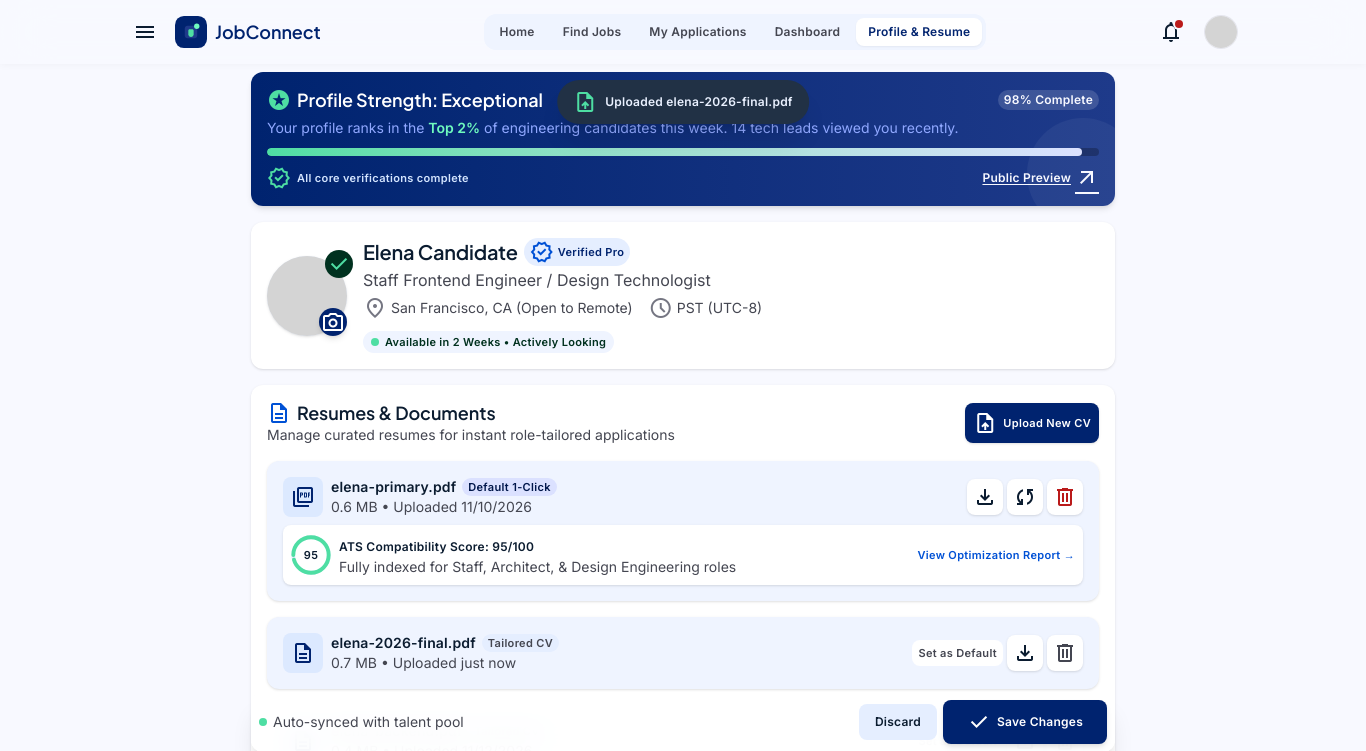
Test: Resume management, Application withdrawal & Offer acceptance UI › uploads, sets default, downloads, and deletes resumes with last-resume guard on ProfileResumePage
Earlier steps of the test are not shown.
expect the text "elena-primary.pdf" is shown: met, box [331, 477, 456, 497]
expect the text "elena-backend.pdf" is shown: met, box [331, 721, 462, 741]
Click the button titled "Download Resume". click: (985, 497)
box: [967, 479, 1003, 515]
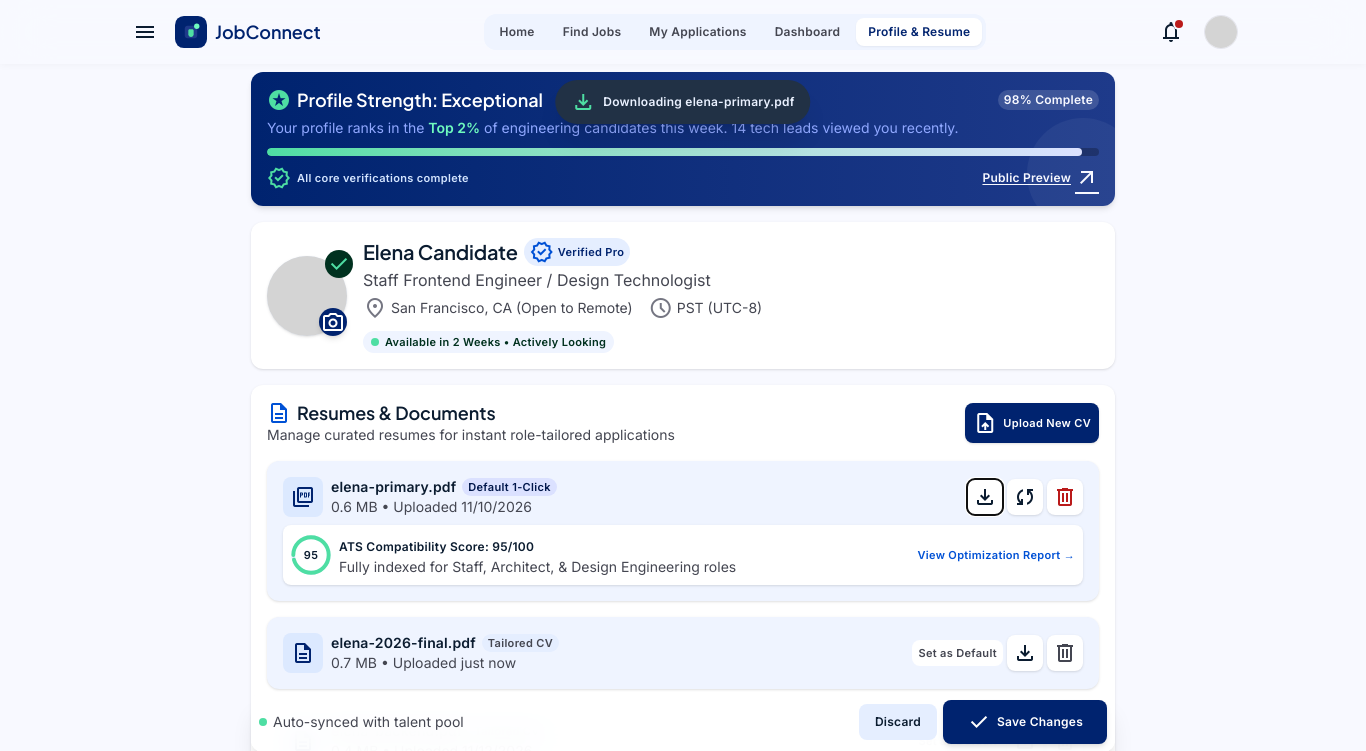
Click the button "Set as Default". click: (958, 653)
box: [912, 640, 1003, 666]
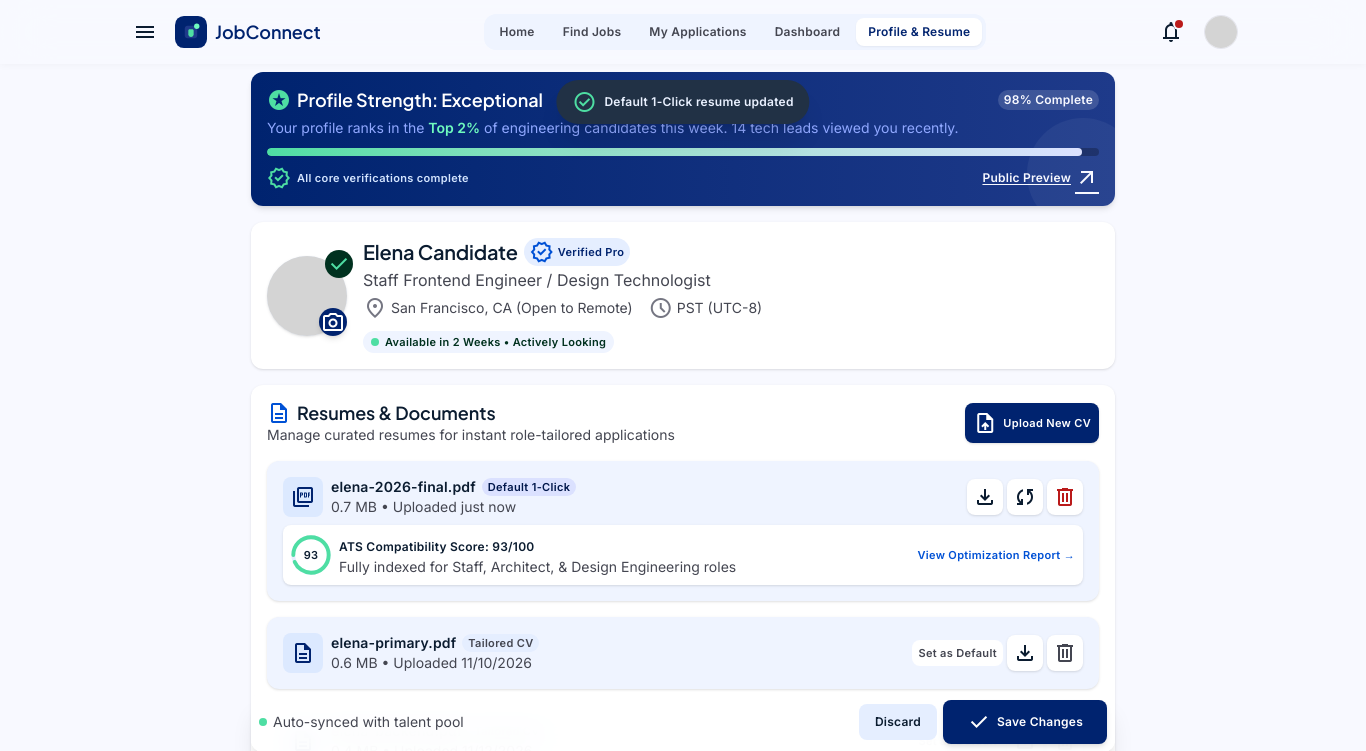
Click the button titled "Delete". click: (1065, 653)
box: [1047, 635, 1083, 671]
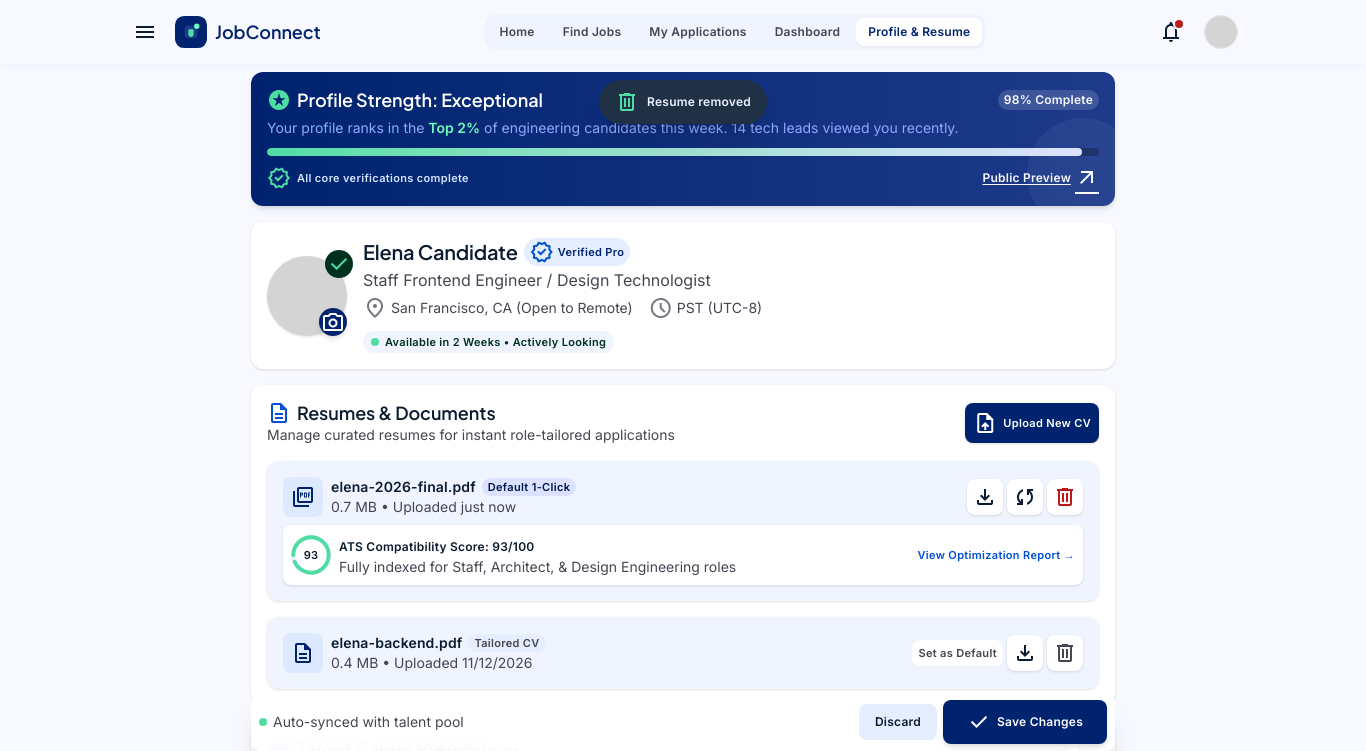
Click the button titled "Delete". click: (1065, 653)
box: [1047, 635, 1083, 671]
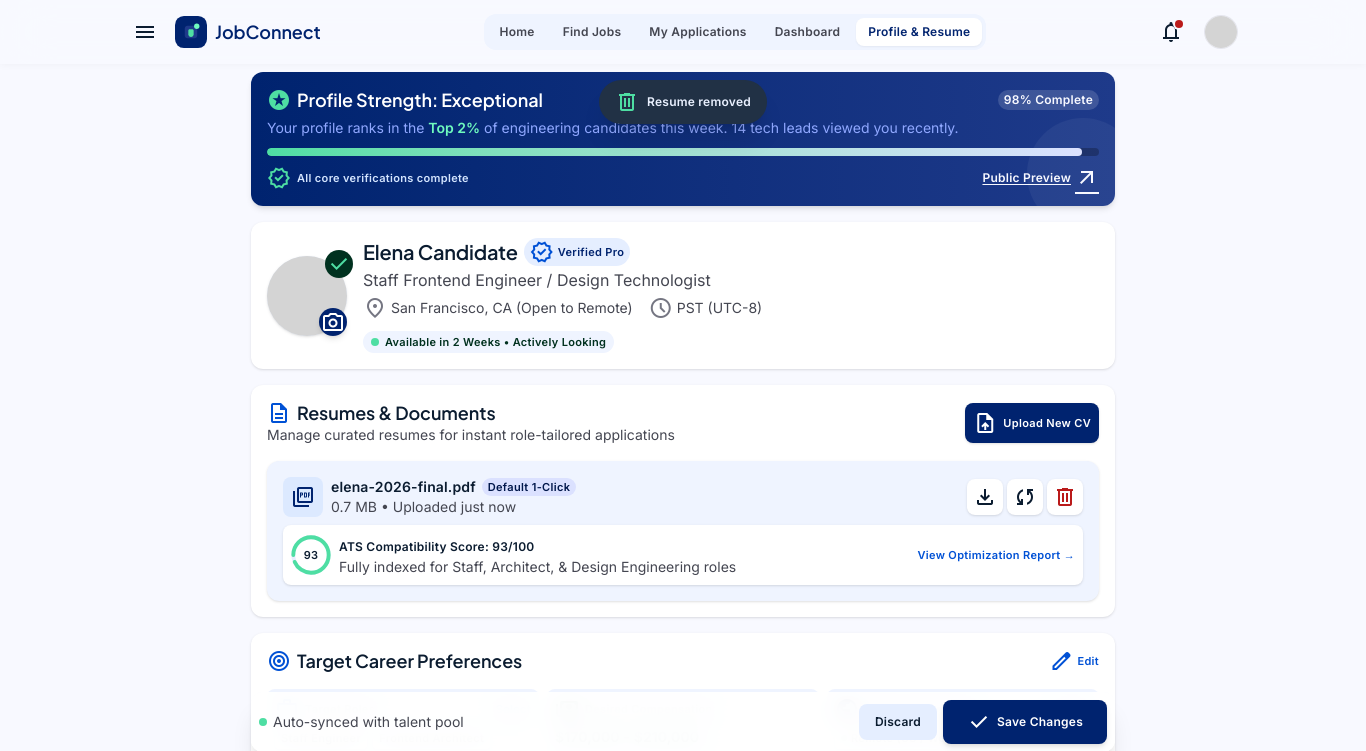
Click the button titled "Delete Resume". click: (1065, 497)
box: [1047, 479, 1083, 515]
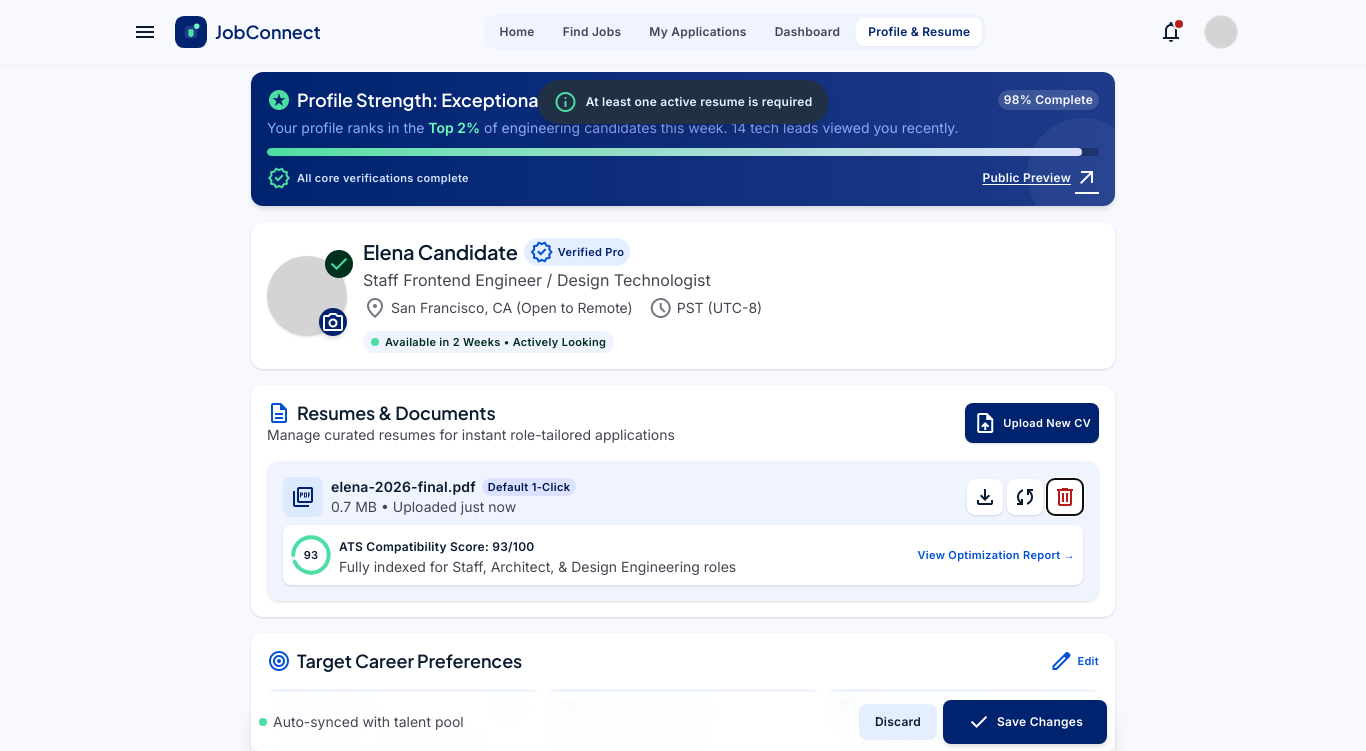
expect the text "At least one active resume is required" is shown: met, box [586, 94, 812, 110]
